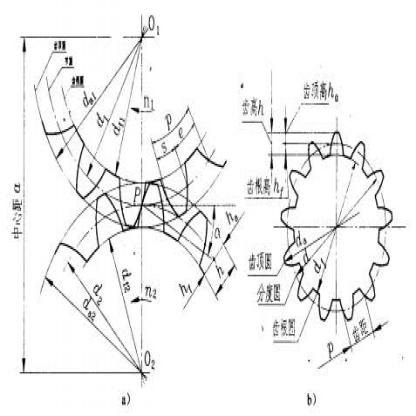FOD: (280, 127, 393, 328)
